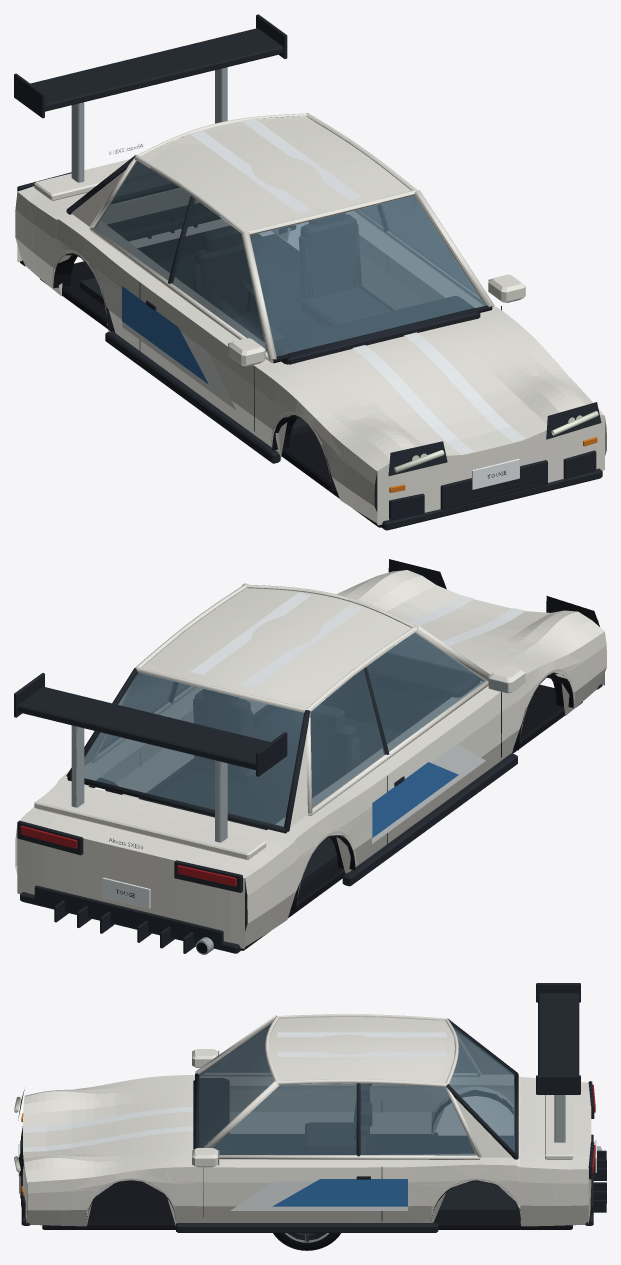
Rendered from sxe10.glb.
The picture shows the model from 3 angles, top to bottom: view 1: azimuth 30°, elevation 25°; view 2: azimuth 150°, elevation 25°; view 3: azimuth 270°, elevation 25°; orthographic projection. The views are drawn at different scales.
Parts seen in each view (by area): view 1: LOD0_body, LOD0_cabin, LOD0_glass, LOD1_glass, LOD1_body, LOD0_hood, LOD1_hood, LOD1_cabin, LOD1_spoiler_gt, LOD0_spoiler_gt, LOD0_vinyl_apex, LOD1_vinyl_twin (+2 smaller); view 2: LOD0_body, LOD0_cabin, LOD0_glass, LOD1_glass, LOD1_body, LOD1_cabin, LOD1_spoiler_gt, LOD0_spoiler_gt, LOD0_hood, LOD1_hood, LOD0_vinyl_apex, LOD1_spoiler_stock (+3 smaller); view 3: LOD0_body, LOD0_cabin, LOD0_glass, LOD1_glass, LOD1_body, LOD0_hood, LOD1_cabin, LOD1_hood, LOD0_vinyl_apex, LOD1_spoiler_gt, LOD0_vinyl_twin, LOD0_spoiler_gt (+5 smaller).
Boxes of the visible parts, x1,y1,x2,y2 form: LOD0_body: (15, 172, 606, 530); LOD0_cabin: (66, 113, 493, 435); LOD0_glass: (95, 161, 484, 355); LOD1_glass: (95, 161, 484, 356); LOD1_body: (17, 187, 606, 530); LOD0_hood: (276, 314, 585, 458); LOD1_hood: (296, 321, 564, 455); LOD1_cabin: (68, 113, 489, 434); LOD1_spoiler_gt: (14, 28, 287, 182); LOD0_spoiler_gt: (14, 14, 287, 182); LOD0_vinyl_apex: (122, 286, 235, 409); LOD1_vinyl_twin: (191, 119, 525, 454); LOD0_body: (17, 559, 606, 954); LOD0_cabin: (66, 583, 489, 899); LOD0_glass: (84, 632, 484, 826); LOD1_glass: (84, 633, 484, 826); LOD1_body: (15, 575, 604, 954); LOD1_cabin: (67, 584, 487, 899); LOD1_spoiler_gt: (14, 673, 270, 842); LOD0_spoiler_gt: (14, 673, 287, 842); LOD0_hood: (346, 570, 591, 683); LOD1_hood: (357, 574, 549, 660); LOD0_vinyl_apex: (372, 744, 485, 843); LOD1_spoiler_stock: (34, 790, 266, 859); LOD0_body: (14, 1049, 606, 1232); LOD0_cabin: (193, 1014, 518, 1215); LOD0_glass: (199, 1023, 514, 1155); LOD1_glass: (199, 1023, 514, 1155); LOD1_body: (14, 1049, 600, 1232); LOD0_hood: (23, 1080, 193, 1171); LOD1_cabin: (194, 1015, 517, 1214); LOD1_hood: (23, 1085, 190, 1161); LOD0_vinyl_apex: (230, 1179, 407, 1210); LOD1_spoiler_gt: (536, 984, 580, 1142); LOD0_vinyl_twin: (28, 1032, 446, 1151); LOD0_spoiler_gt: (536, 983, 580, 1142).
Size of the model in its own units: 1.99 by 1.85 by 4.59.
